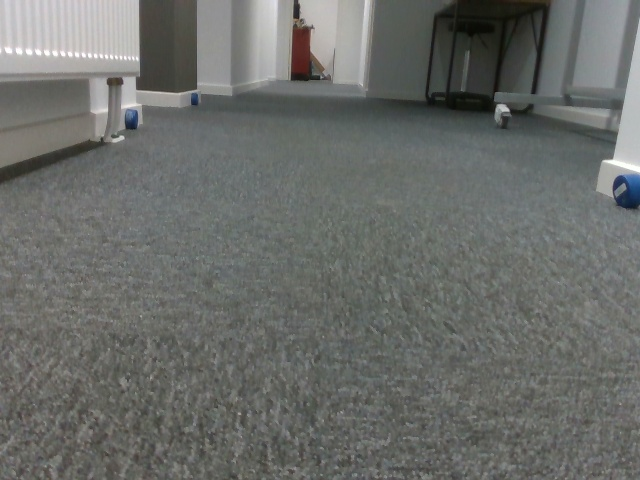alfa: (610, 168, 640, 212), (123, 107, 141, 130), (190, 91, 199, 106)
